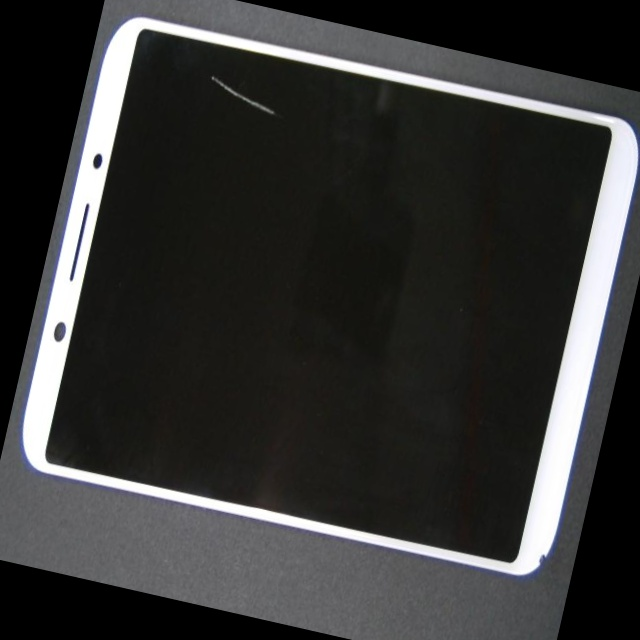scratch: (99, 0, 321, 138)
